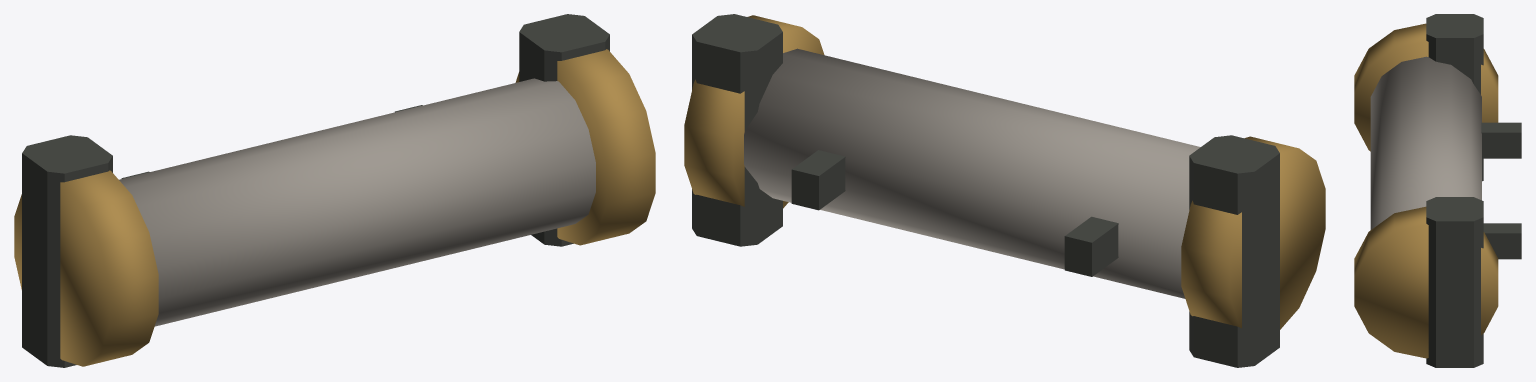
File: b3_pipe.glb
3 views of the same model, side by side, from view 1: azimuth 30°, elevation 25°; view 2: azimuth 150°, elevation 25°; view 3: azimuth 270°, elevation 25° (orthographic). The views are drawn at different scales.
Parts seen in each view (by area): view 1: b3_pipe; view 2: b3_pipe; view 3: b3_pipe.
Part boxes in pixels (<box>): b3_pipe: <box>14,14,655,367</box>; b3_pipe: <box>684,14,1325,367</box>; b3_pipe: <box>1354,14,1521,367</box>.
Size of the model in its own units: 2.06 by 0.68 by 0.7022.
